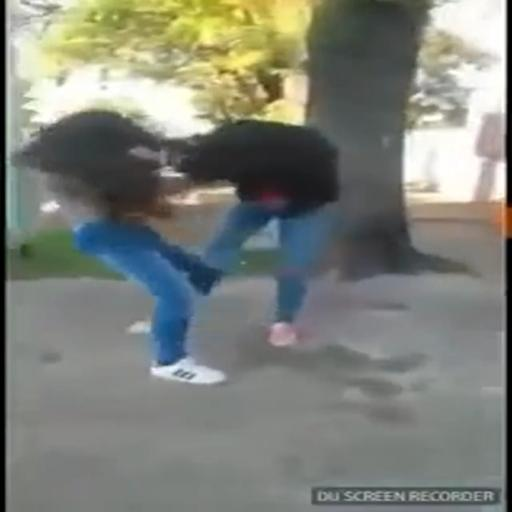violencia: (16, 100, 352, 392)
